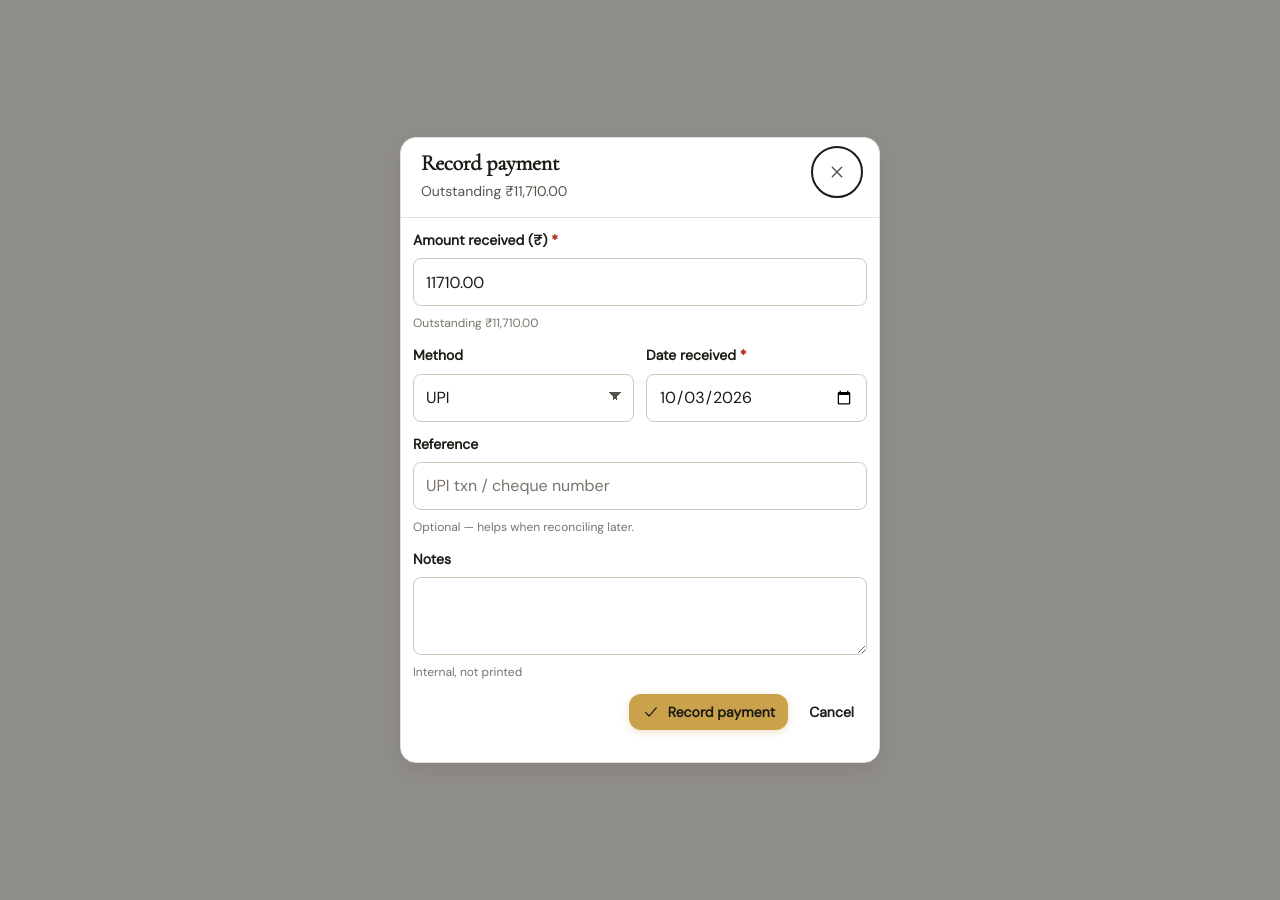
PaymentSheet › rejects a zero amount
The image size is (1280, 900).
Clear the field labelled "Amount received (₹) *": (640, 282) [413, 258, 867, 306]
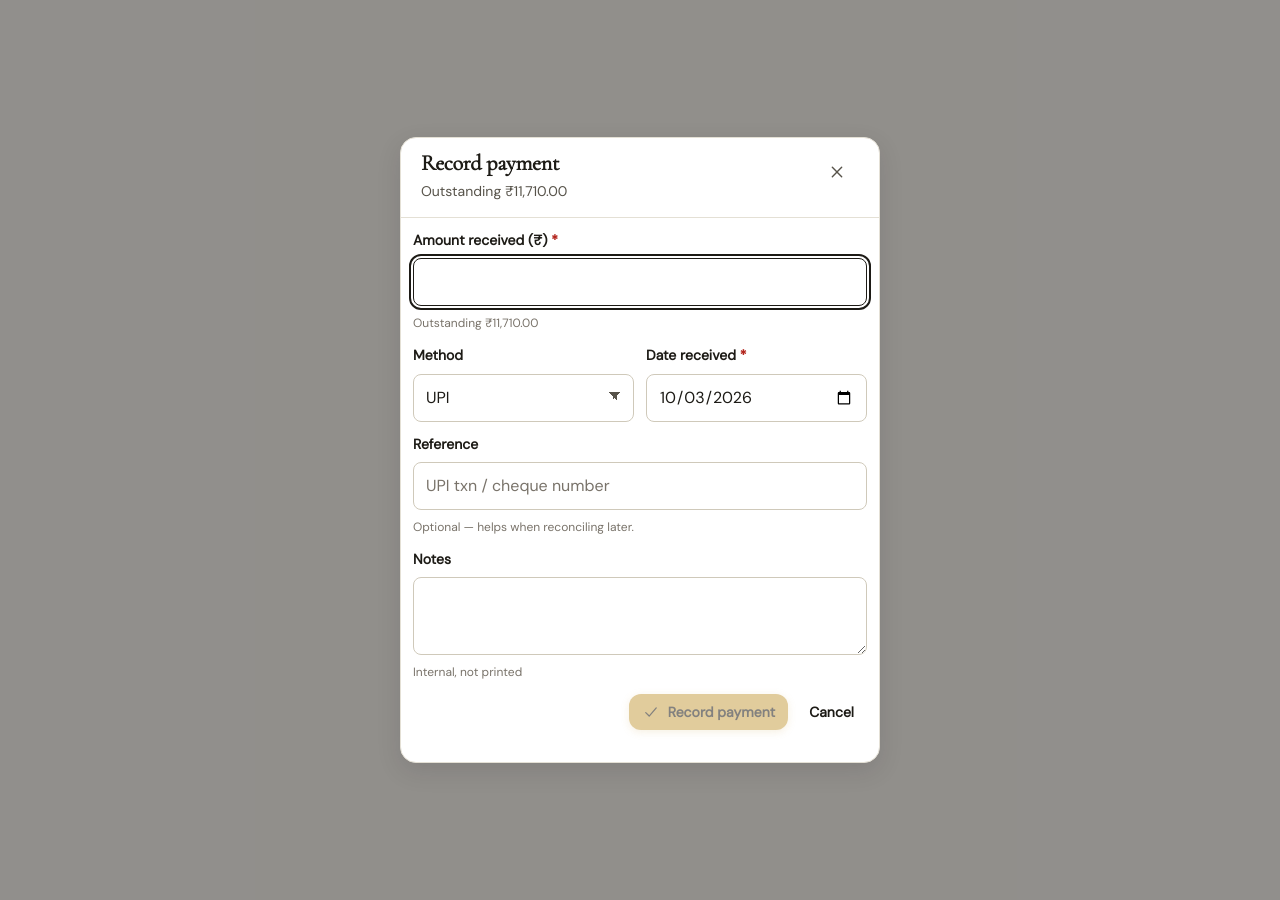
Expected: the button "Record payment" is disabled, [629, 694, 788, 730]
